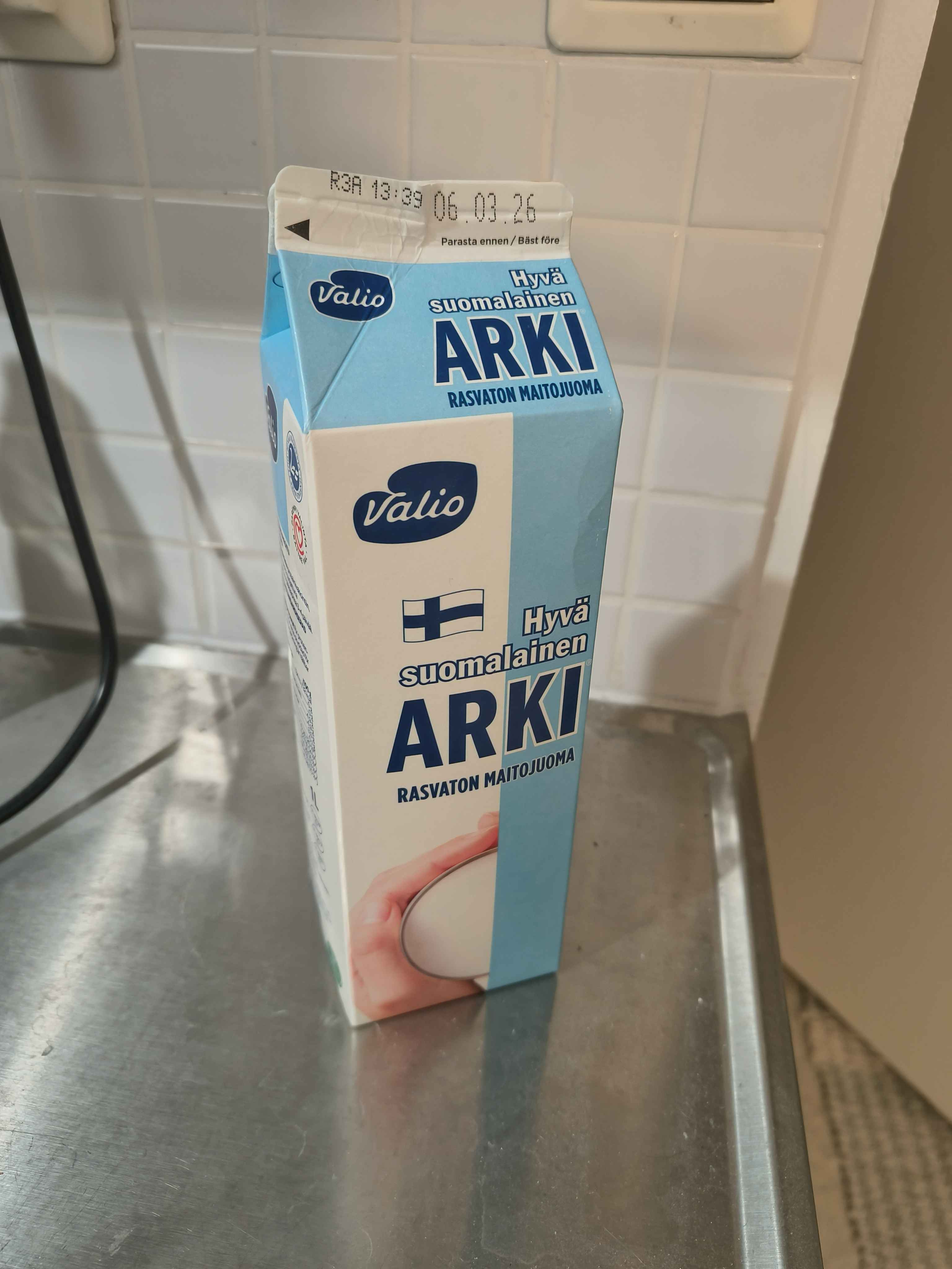Dryckeskartong: (261, 166, 622, 1025)
